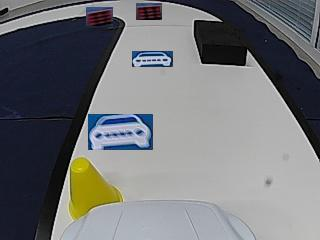block: (194, 20, 246, 65)
cone: (71, 158, 122, 201)
